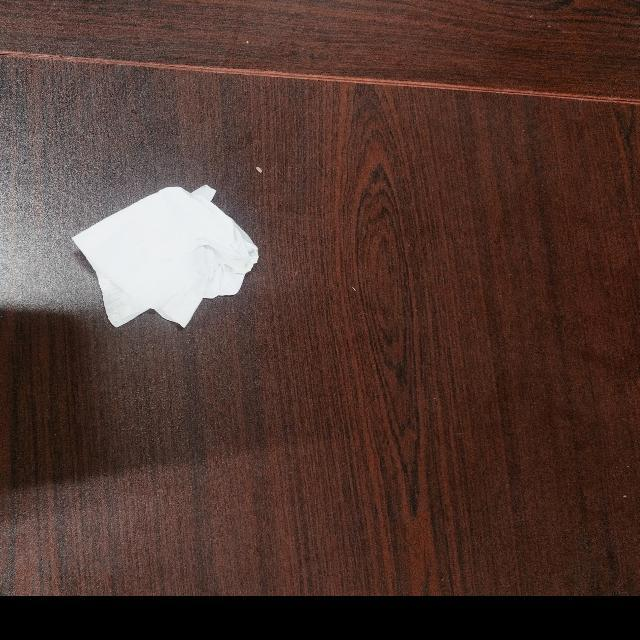kitchen paper: (68, 173, 276, 335)
